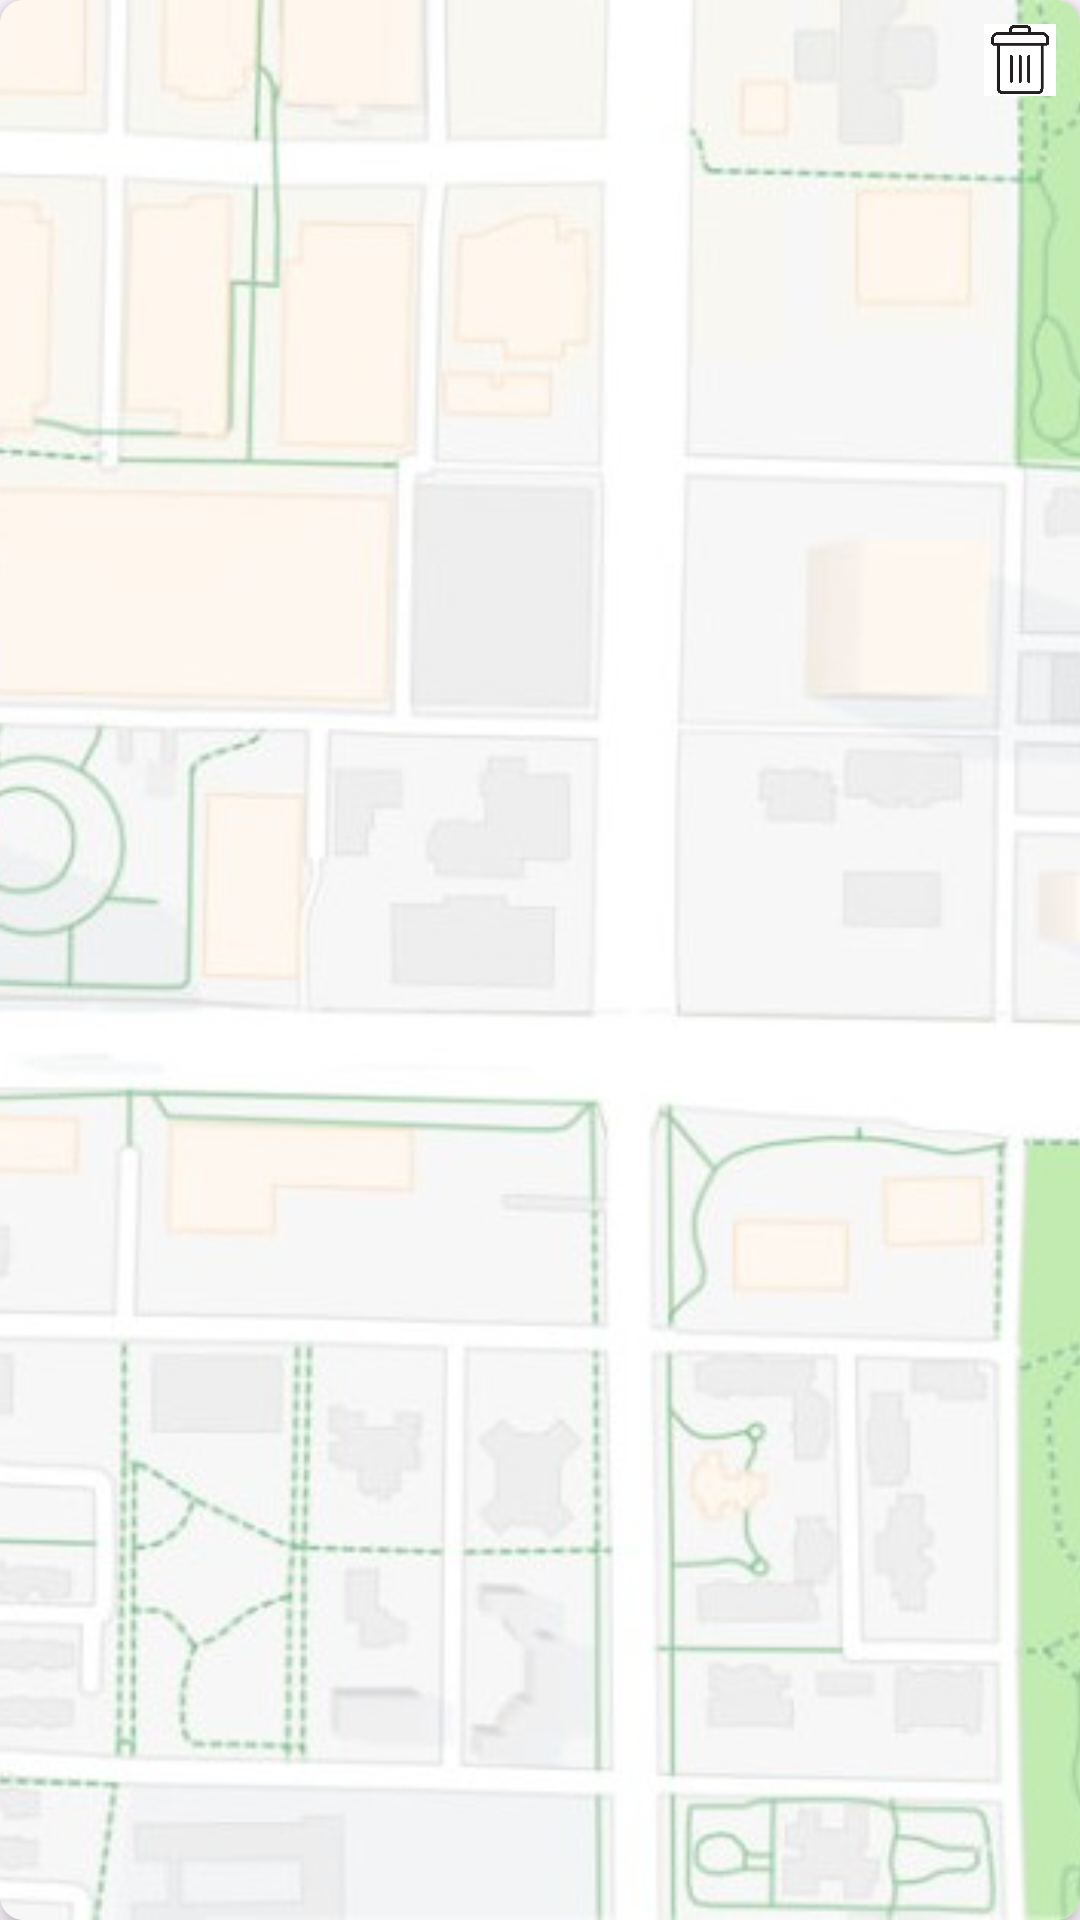

Locate icon controls on the screen. Image size 1080 x 1920, boxes as box(x1, y1, x2, y2).
刪除: box(991, 25, 1049, 94)
